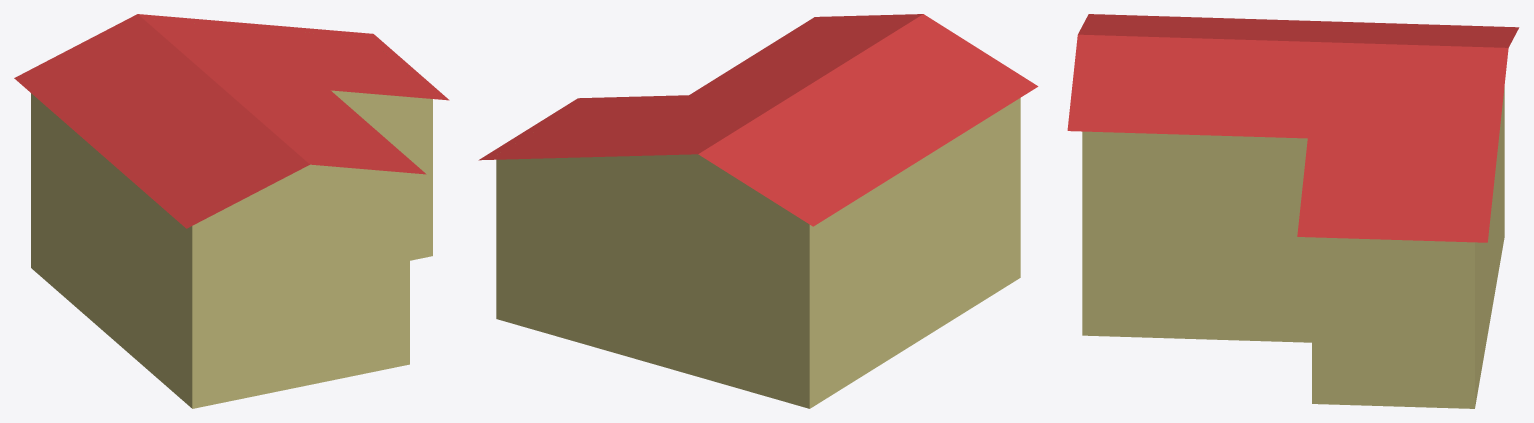
3 renders of one model, left to right at view 1: azimuth 30°, elevation 25°; view 2: azimuth 150°, elevation 25°; view 3: azimuth 270°, elevation 25°, orthographic. The views are drawn at different scales.
Size of the model in its own units: 16.77 by 16.27 by 9.8.
